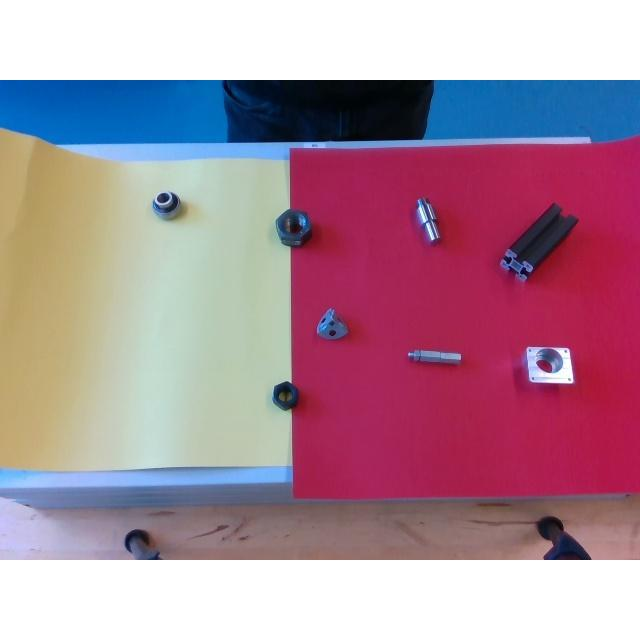Axis2: (416, 197, 439, 241)
Bearing2: (150, 191, 182, 219)
M30: (276, 208, 312, 245), (272, 381, 298, 409)
S40_40_B: (501, 203, 579, 279)
